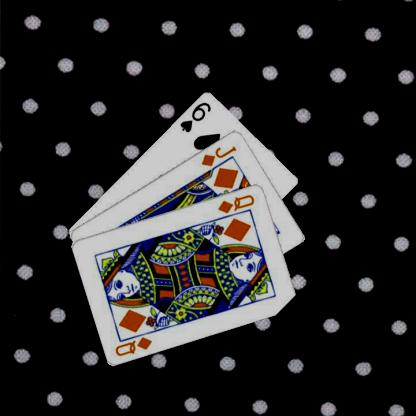6S: (178, 100, 212, 134)
JD: (199, 143, 237, 168)
QD: (112, 334, 154, 357), (215, 192, 256, 214)
